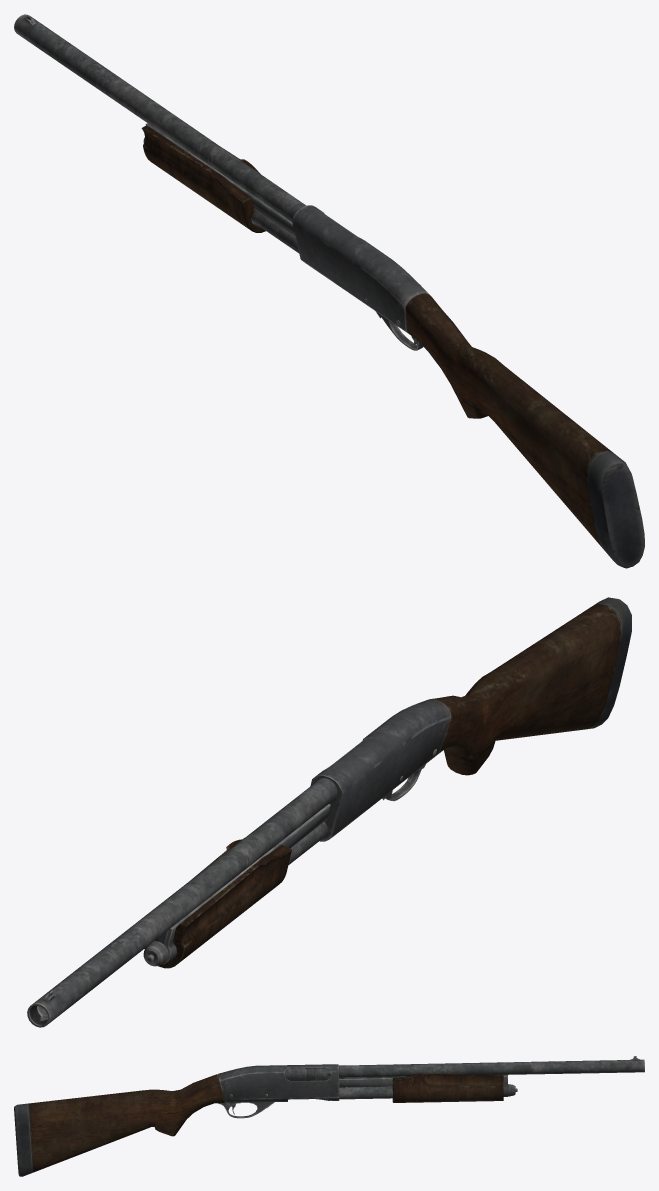
File: shotgun.glb
The picture shows the model from 3 angles, top to bottom: view 1: azimuth 30°, elevation 25°; view 2: azimuth 150°, elevation 25°; view 3: azimuth 270°, elevation 25°; orthographic projection. The views are drawn at different scales.
Parts seen in each view (by area): view 1: Object_92; view 2: Object_92; view 3: Object_92.
Boxes of the visible parts, x1,y1,x2,y2 form: Object_92: (14, 14, 644, 568); Object_92: (27, 597, 631, 1027); Object_92: (14, 1056, 644, 1176).
Bounding box in the file's own units: 0.0932 × 0.1773 × 1.
1 material, 1 textured.
